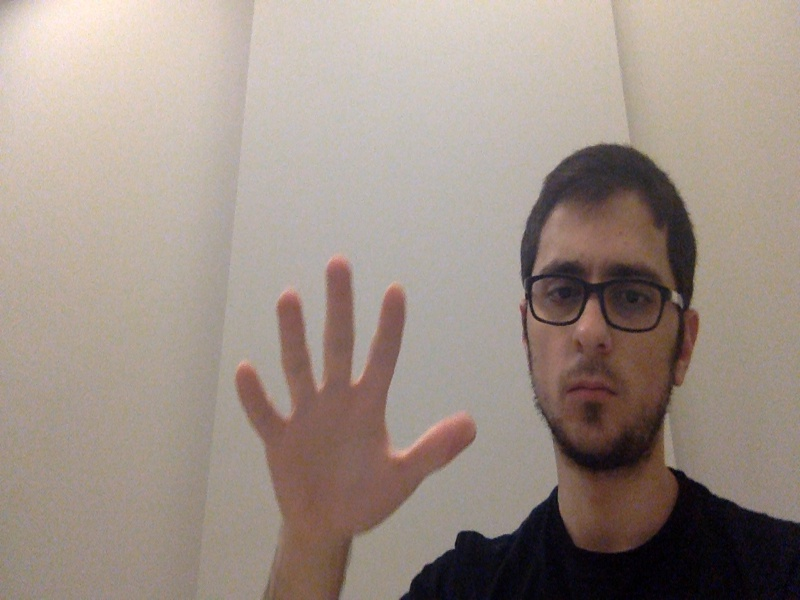5-hand: (231, 255, 478, 540)
